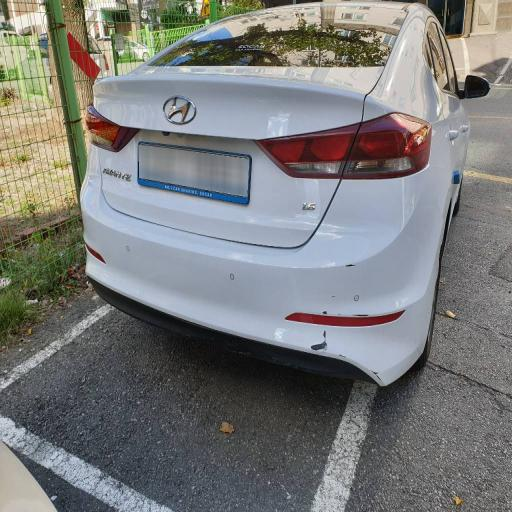dent: (84, 53, 383, 180)
scratch: (293, 247, 407, 380)
